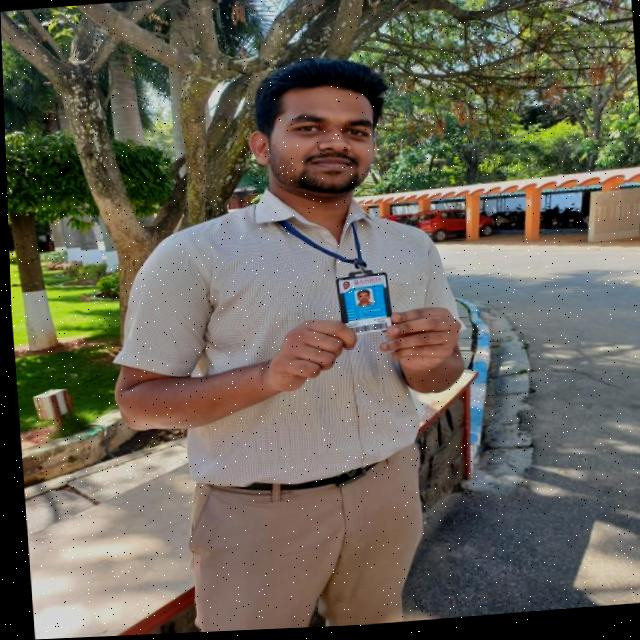id_card: (268, 200, 402, 348)
